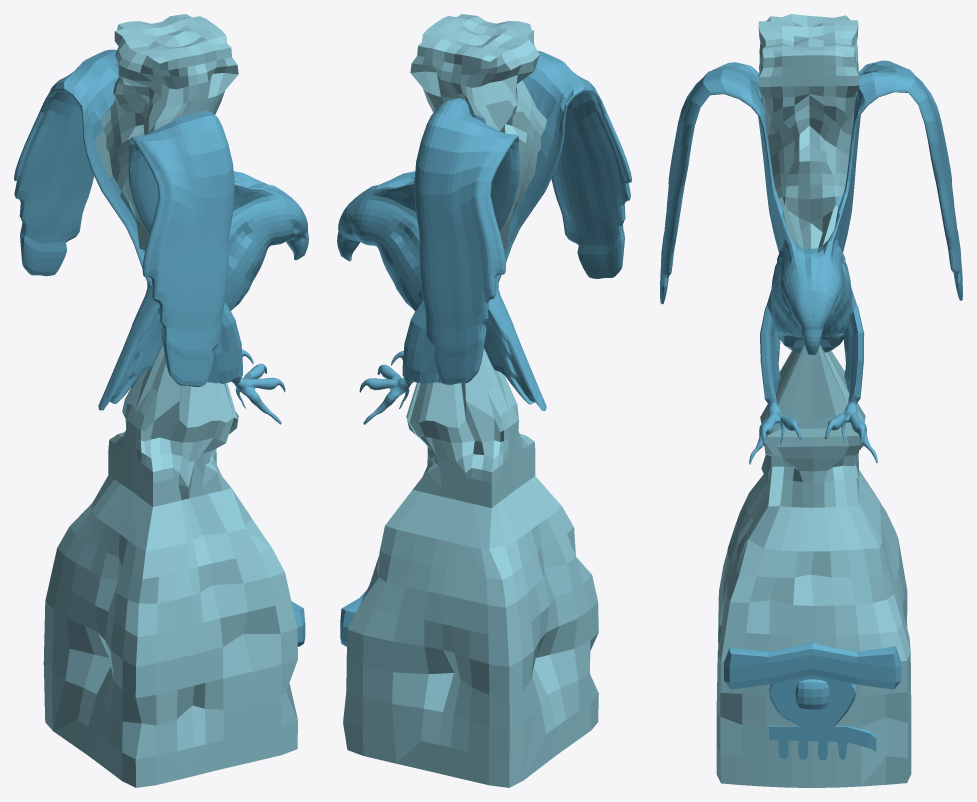
File: eagle_blue.fbx
The picture shows the model from 3 angles, left to right: view 1: azimuth 30°, elevation 25°; view 2: azimuth 150°, elevation 25°; view 3: azimuth 270°, elevation 25°; orthographic projection.
Parts seen in each view (by area): view 1: eagle_column_sm; view 2: eagle_column_sm; view 3: eagle_column_sm.
Boxes of the visible parts, box(x1,y1,x2,y2) form: eagle_column_sm: box(14, 14, 308, 787); eagle_column_sm: box(337, 14, 631, 787); eagle_column_sm: box(660, 14, 962, 787).
Bounding box in the file's own units: 637 × 1859 × 720.
